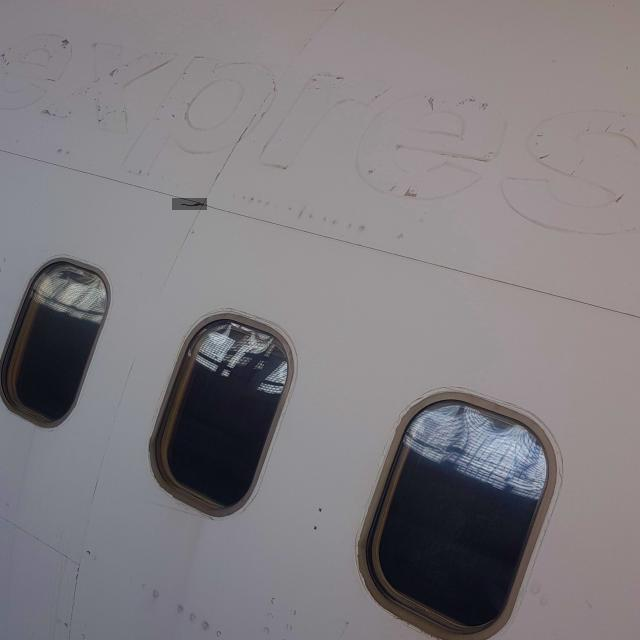crack: (173, 199, 208, 211)
